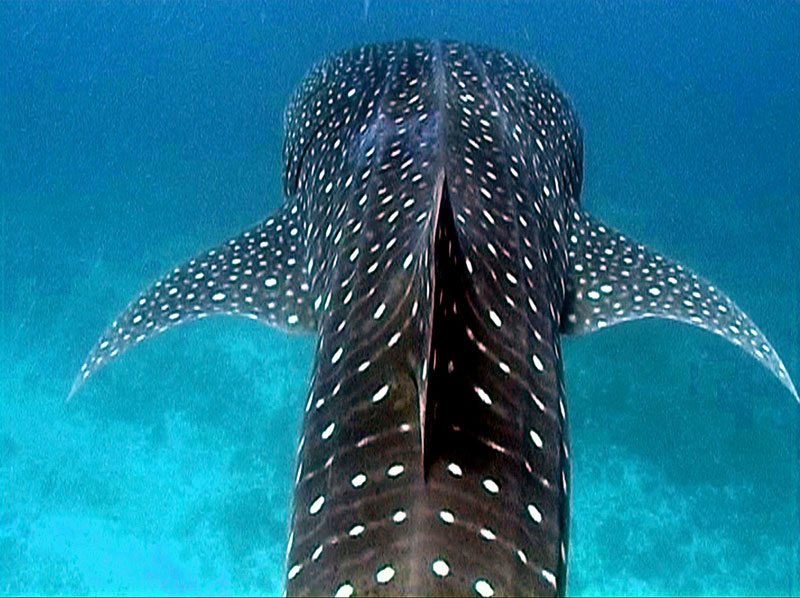Rhincodon_typusw: (76, 35, 689, 598)
